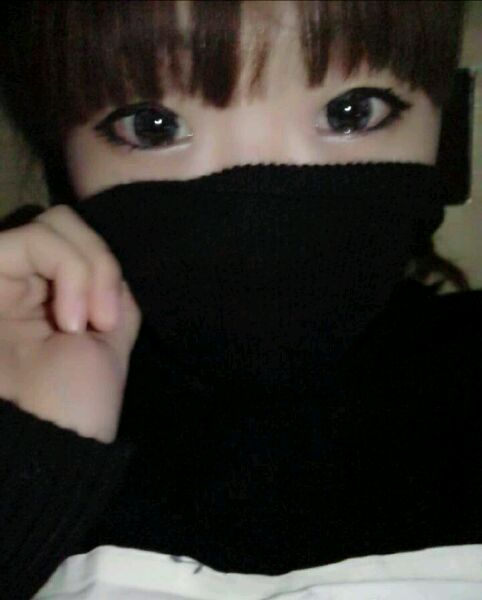face_mask: (66, 1, 445, 426)
